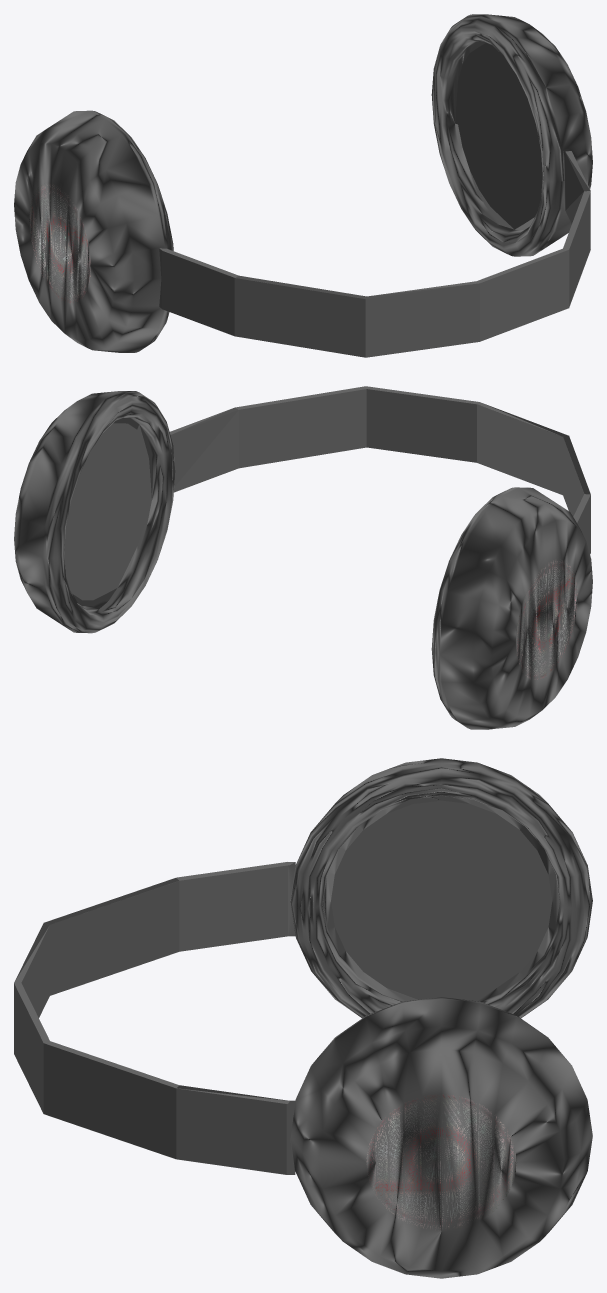
The model's file is model_align.obj.
3 renders of one model, top to bottom at view 1: azimuth 30°, elevation 25°; view 2: azimuth 150°, elevation 25°; view 3: azimuth 270°, elevation 25°, orthographic. The views are drawn at different scales.
Bounding box in the file's own units: 0.1718 × 0.0763 × 0.1459.
Materials: 3 (3 with a texture image).
